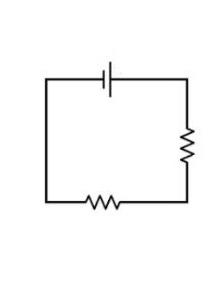resistor: (68, 176, 126, 219), (166, 112, 197, 172)
